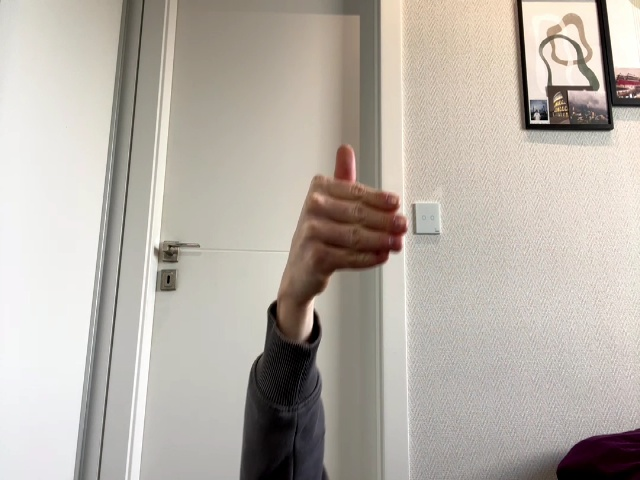M: (295, 144, 408, 289)
